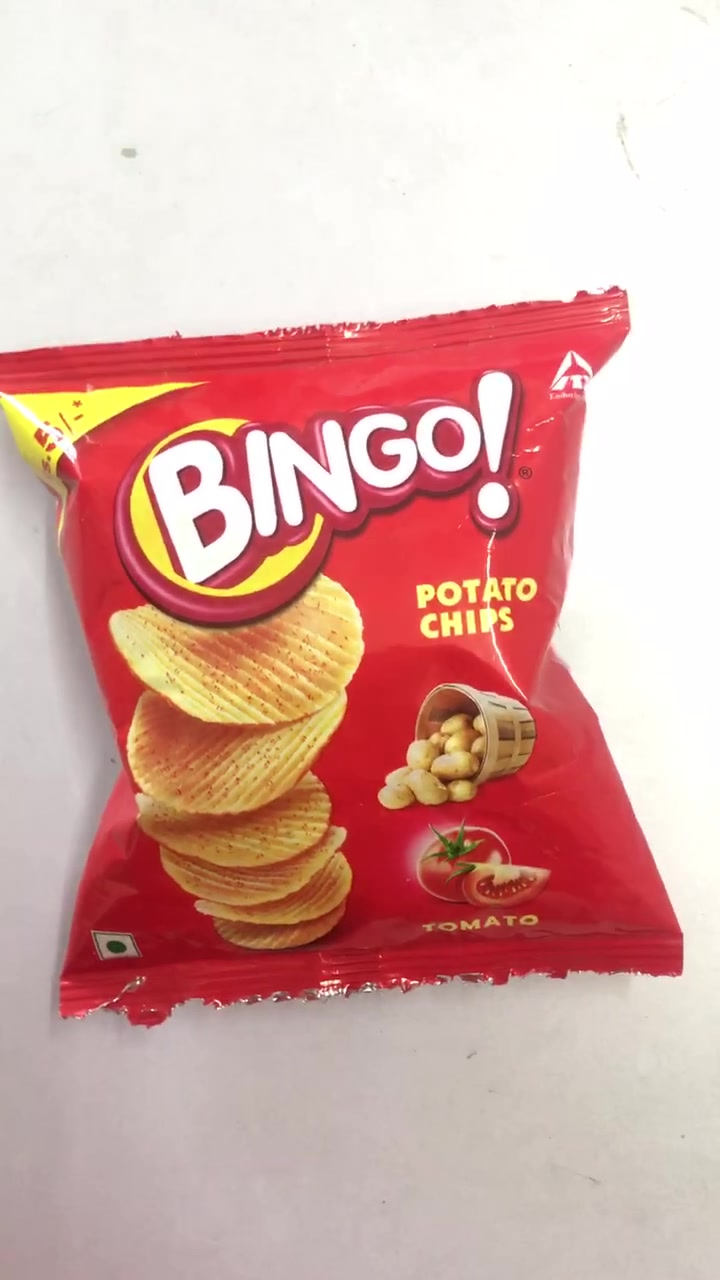Bingo: (8, 352, 674, 967)
